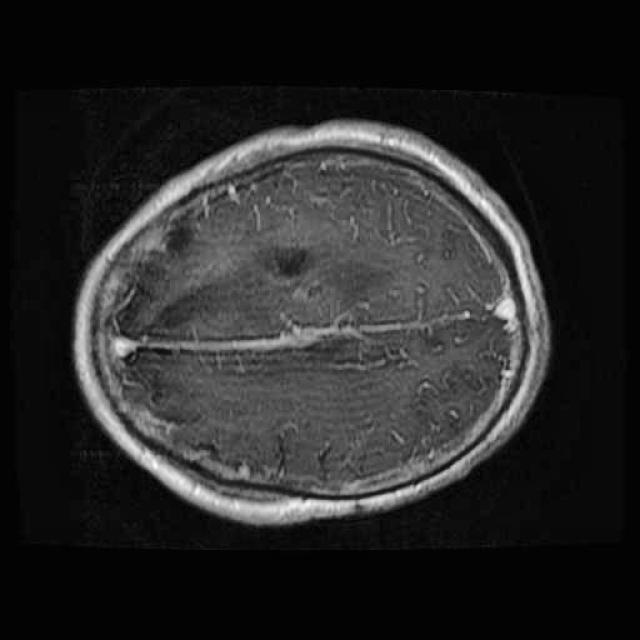Non-Tumor: (248, 223, 326, 292)
